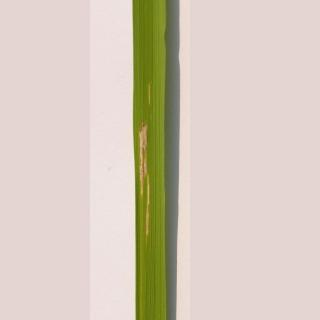Hawar-Daun: (129, 113, 159, 179), (143, 164, 155, 252)
